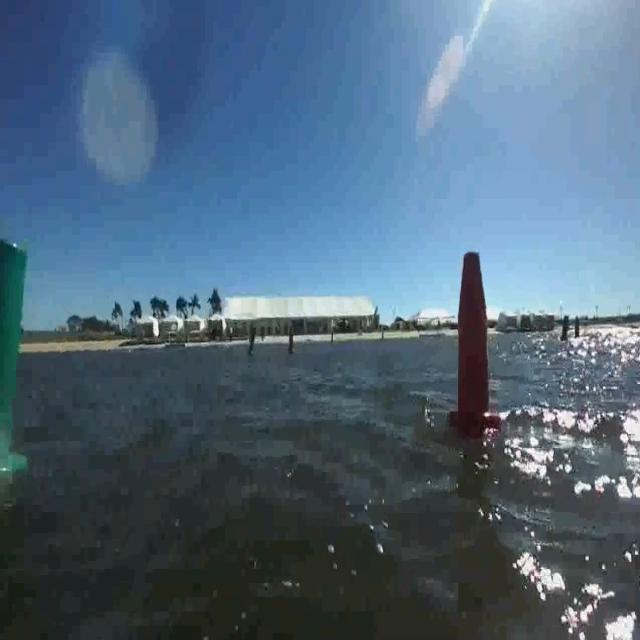green-column-buoy: (0, 233, 30, 481), (247, 325, 258, 356)
red-column-buoy: (450, 248, 501, 437), (286, 329, 296, 356)
